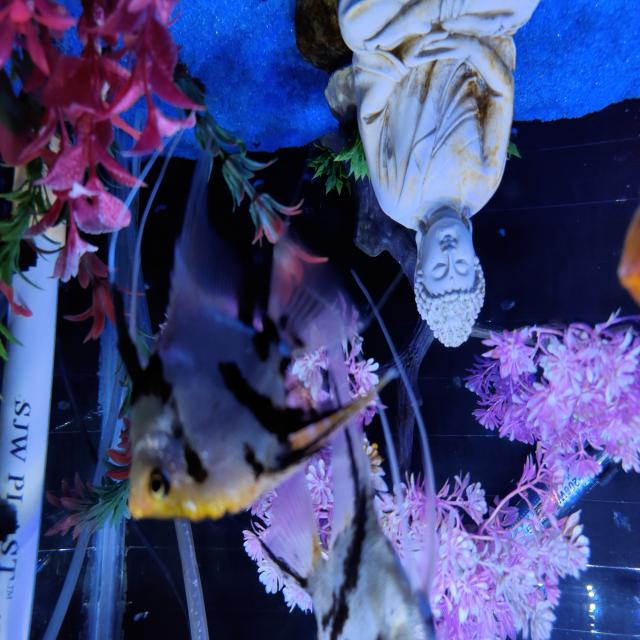Fish: (114, 153, 391, 519), (261, 422, 435, 639), (262, 425, 433, 639), (617, 206, 639, 303)
